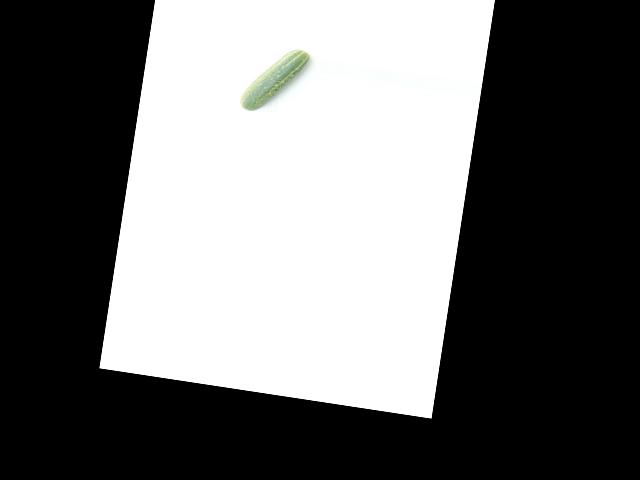cucumber: (238, 41, 311, 118)
